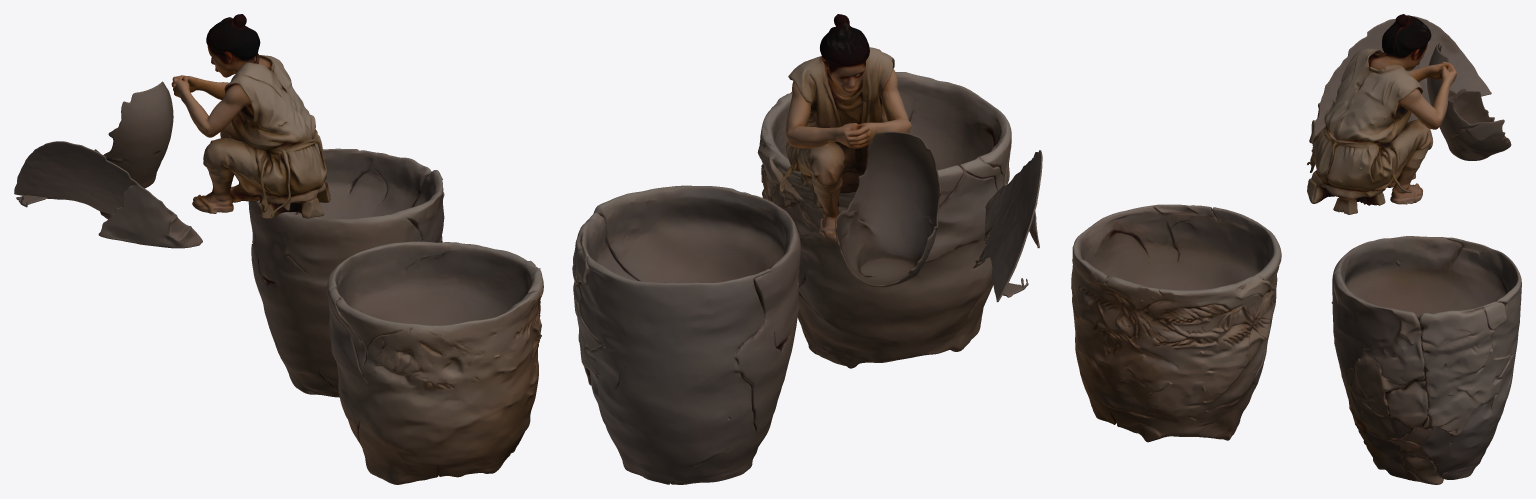
The model's file is left-tripo-scene.glb.
3 renders of one model, left to right at view 1: azimuth 30°, elevation 25°; view 2: azimuth 150°, elevation 25°; view 3: azimuth 270°, elevation 25°, orthographic. The views are drawn at different scales.
Visible parts, largest first — view 1: tripo_node_017377ed-8fc1-4a8a-8bc2-aac6d0084588; view 2: tripo_node_017377ed-8fc1-4a8a-8bc2-aac6d0084588; view 3: tripo_node_017377ed-8fc1-4a8a-8bc2-aac6d0084588.
Part boxes in pixels (bbox=[...]): tripo_node_017377ed-8fc1-4a8a-8bc2-aac6d0084588: bbox=[14, 14, 543, 484]; tripo_node_017377ed-8fc1-4a8a-8bc2-aac6d0084588: bbox=[572, 14, 1042, 484]; tripo_node_017377ed-8fc1-4a8a-8bc2-aac6d0084588: bbox=[1071, 14, 1521, 484].
Size of the model in its own units: 0.9671 by 0.9447 by 0.9877.
Materials: 1 (1 with a texture image).
